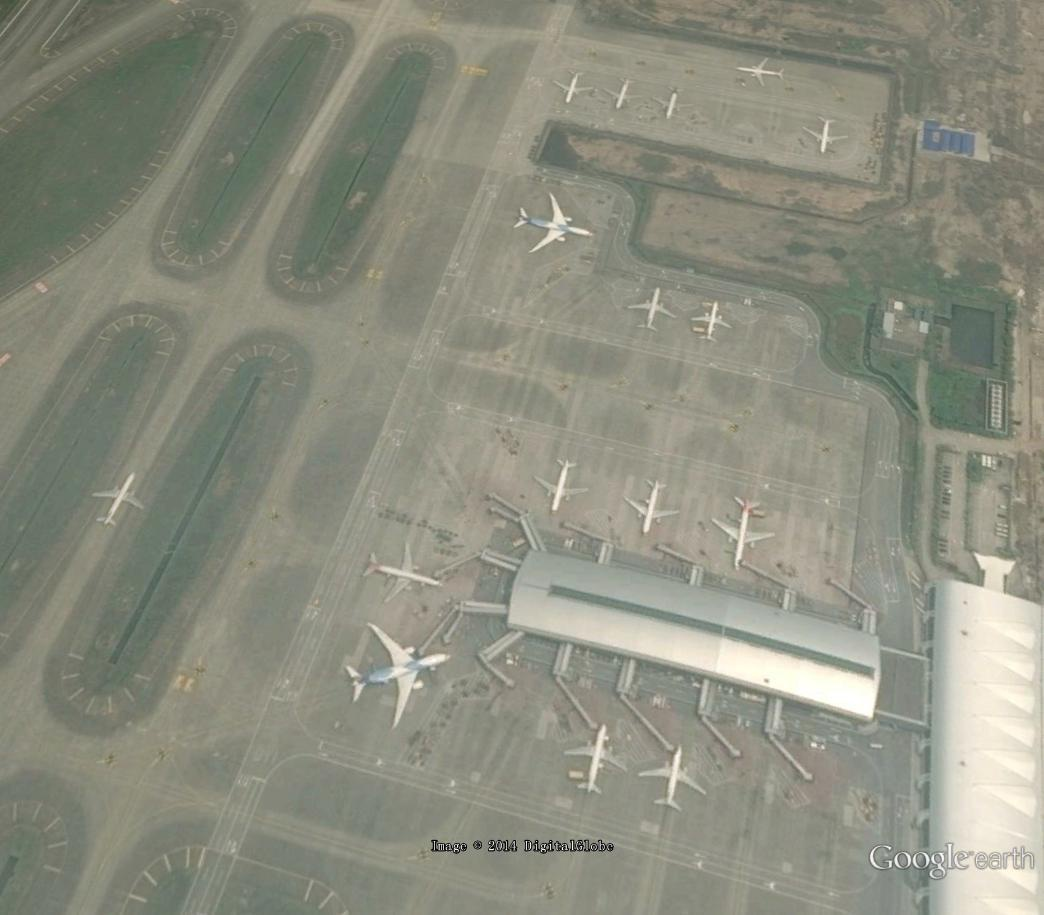aircraft: (342, 615, 456, 733), (708, 484, 783, 577), (511, 187, 603, 258), (550, 721, 631, 795), (358, 537, 447, 604), (634, 744, 709, 822), (84, 463, 154, 529), (622, 469, 687, 538), (529, 456, 597, 516), (622, 276, 684, 334), (688, 298, 741, 352), (732, 51, 792, 93), (796, 108, 847, 153), (547, 61, 597, 105), (601, 69, 645, 117), (651, 82, 693, 123)
